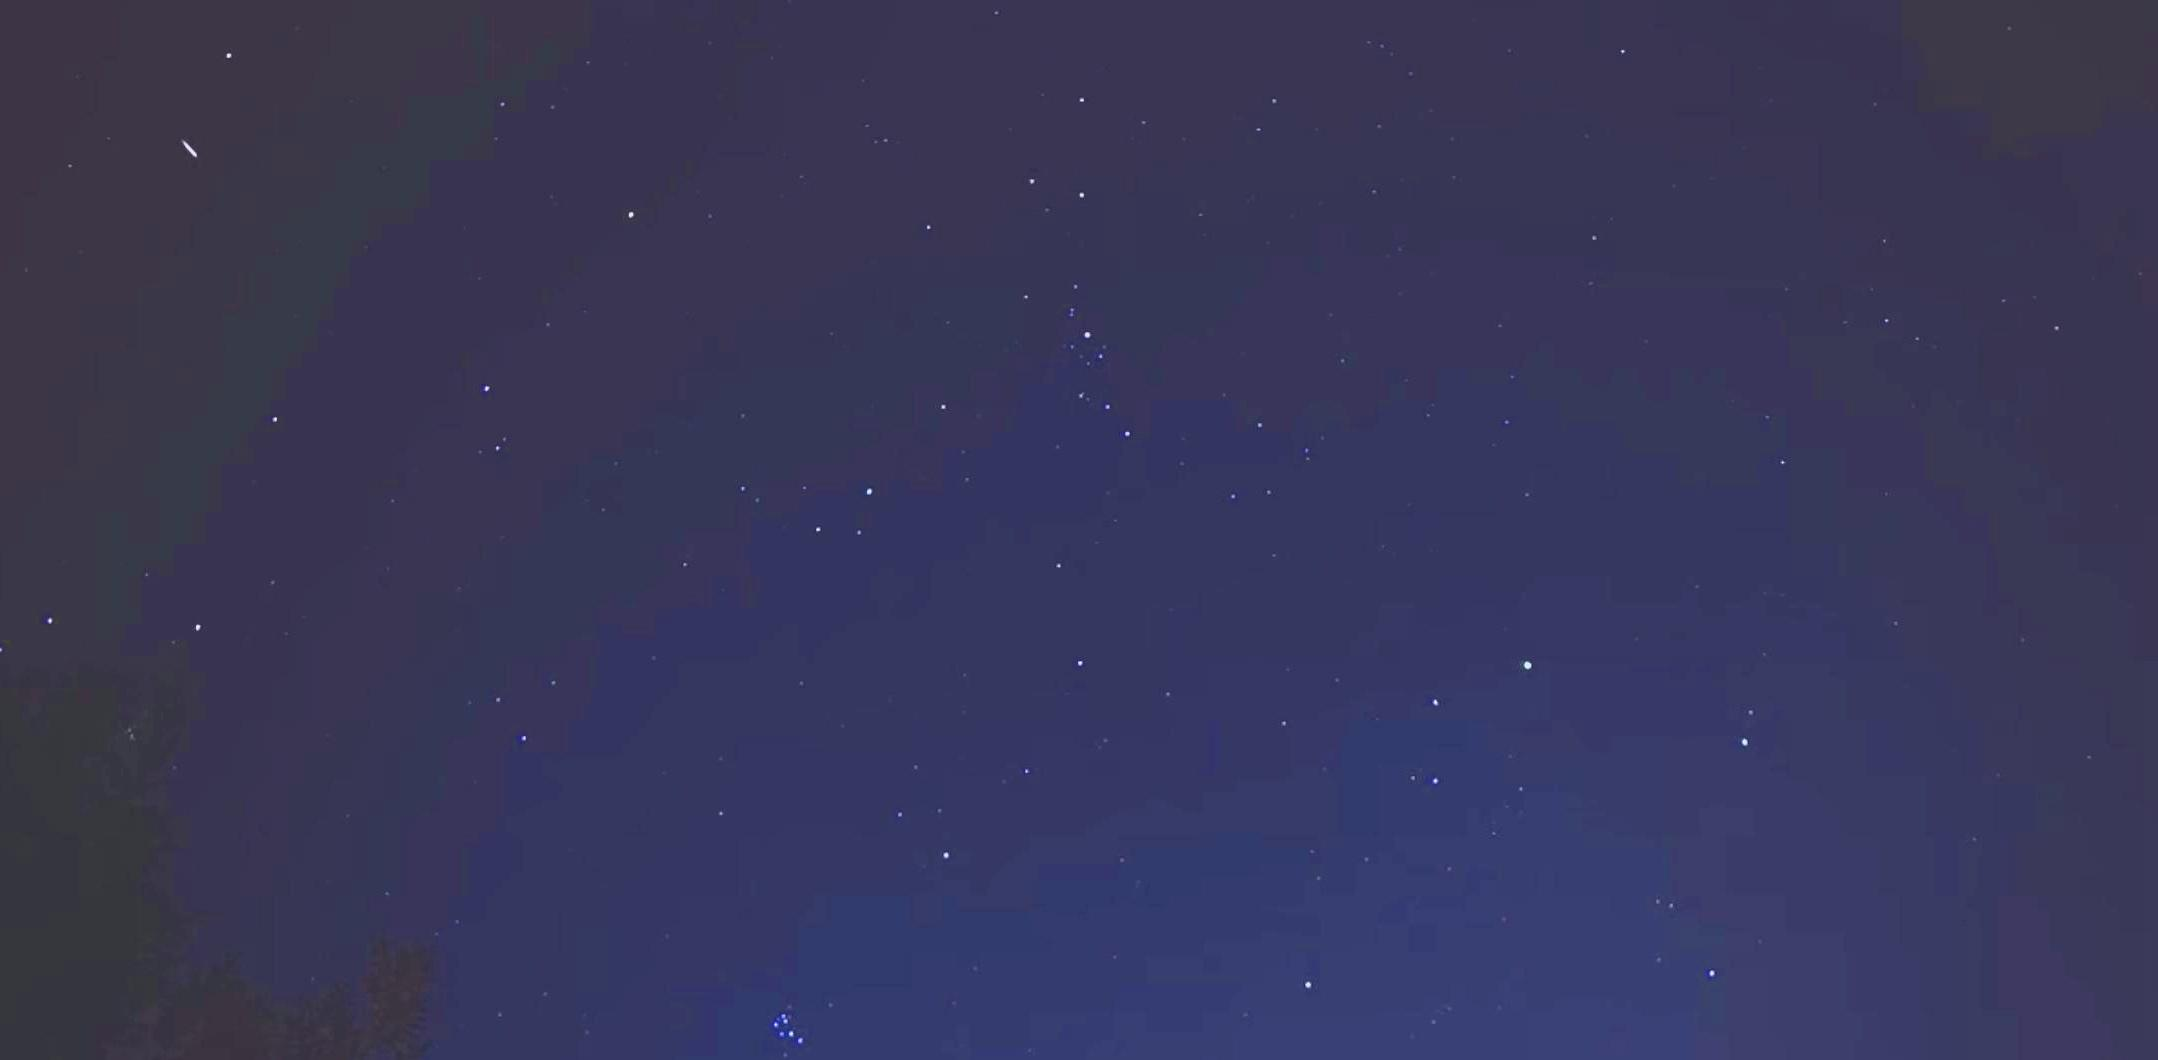meteorite: (150, 123, 227, 176)
